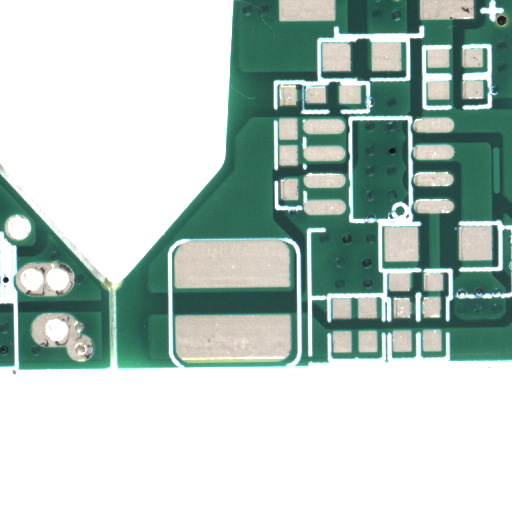Spurious_copper: (496, 169, 505, 218)
